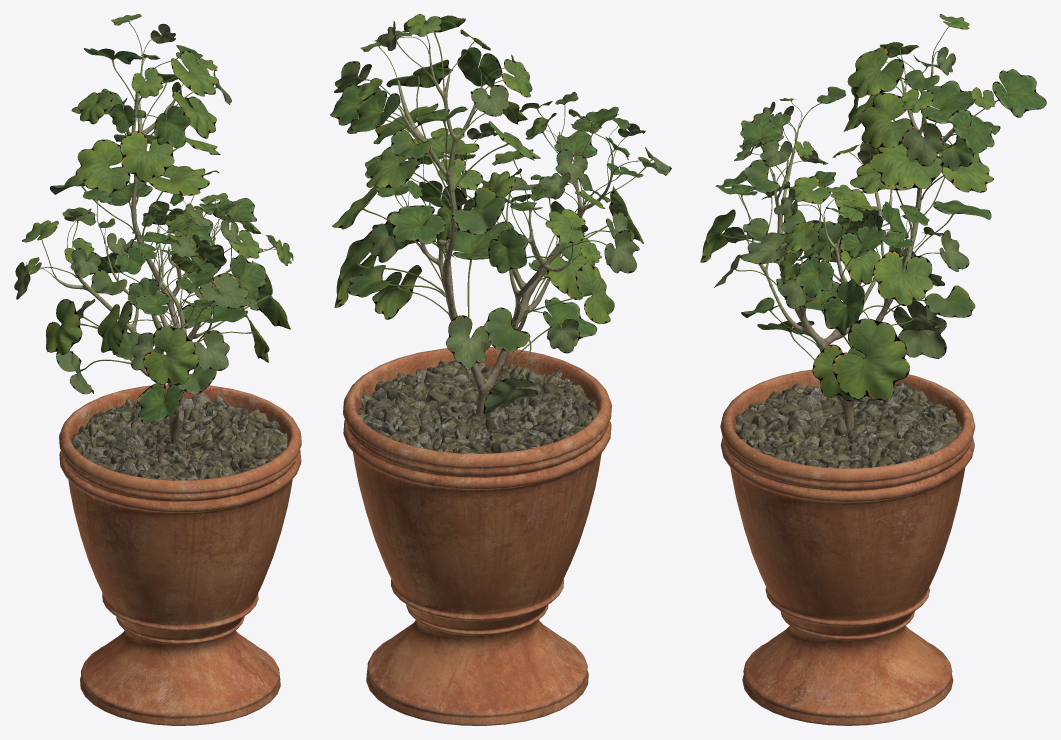
Rendered from potted_plant_01.glb.
3 renders of one model, left to right at view 1: azimuth 30°, elevation 25°; view 2: azimuth 150°, elevation 25°; view 3: azimuth 270°, elevation 25°, orthographic. The views are drawn at different scales.
Parts seen in each view (by area): view 1: potted_plant_01_pot, potted_plant_01_leaves, potted_plant_01_pebbles, potted_plant_01_stem; view 2: potted_plant_01_pot, potted_plant_01_leaves, potted_plant_01_pebbles, potted_plant_01_stem; view 3: potted_plant_01_pot, potted_plant_01_leaves, potted_plant_01_pebbles, potted_plant_01_stem.
Part boxes in pixels (bbox=[...]): potted_plant_01_pot: bbox=[59, 384, 301, 725]; potted_plant_01_leaves: bbox=[14, 14, 293, 423]; potted_plant_01_pebbles: bbox=[71, 392, 287, 480]; potted_plant_01_stem: bbox=[53, 54, 244, 443]; potted_plant_01_pot: bbox=[343, 347, 611, 725]; potted_plant_01_leaves: bbox=[330, 14, 671, 414]; potted_plant_01_pebbles: bbox=[358, 360, 597, 453]; potted_plant_01_stem: bbox=[397, 49, 612, 420]; potted_plant_01_pot: bbox=[720, 369, 975, 725]; potted_plant_01_leaves: bbox=[700, 14, 1046, 401]; potted_plant_01_pebbles: bbox=[735, 382, 961, 468]; potted_plant_01_stem: bbox=[751, 55, 966, 431].
Size of the model in its own units: 0.5874 by 1.34 by 0.6336.
2 materials, 2 textured.
